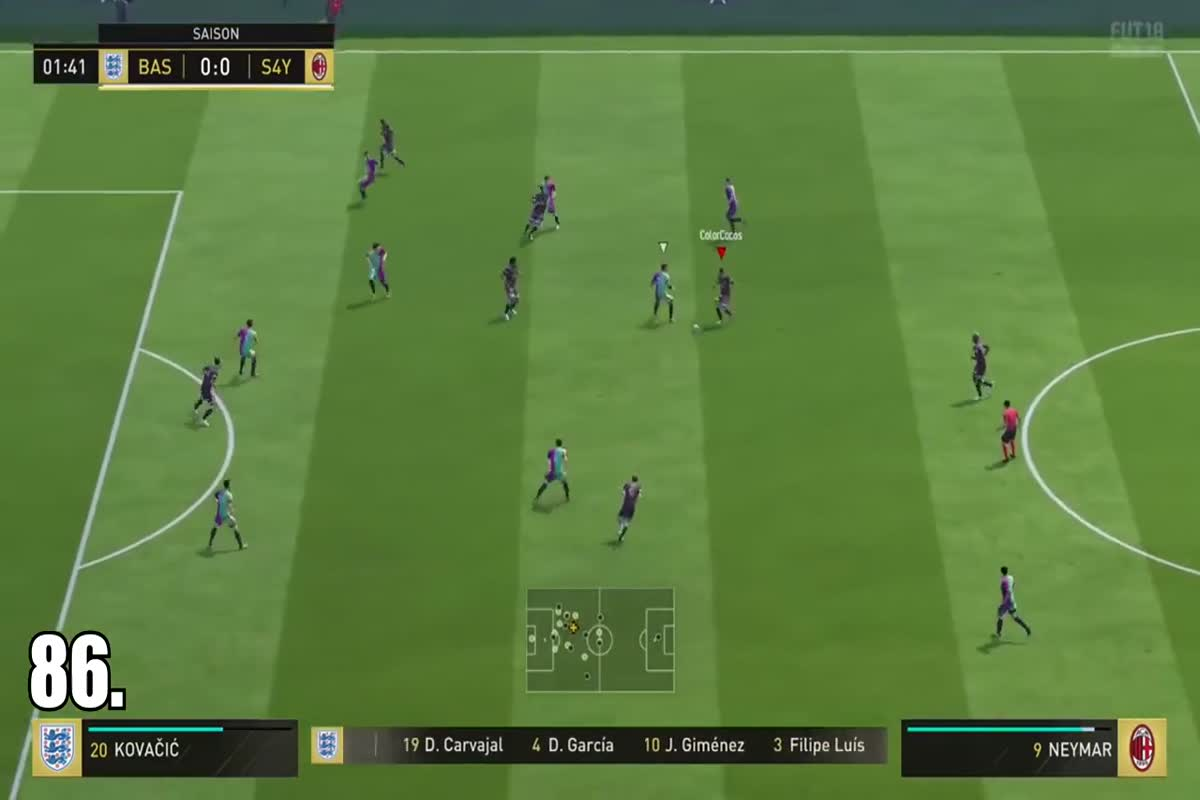ball: (685, 319, 709, 340)
